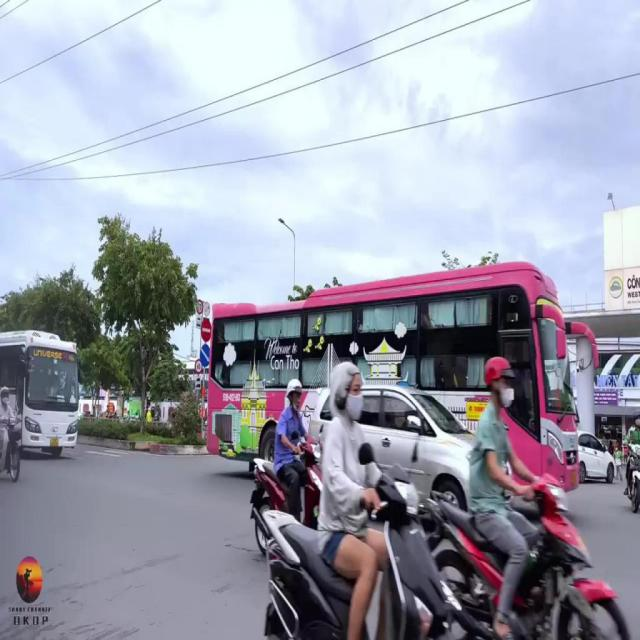cam_xe_di_nguoc_chieu: (201, 320, 212, 344)
huong_phai_di_vuot_chuong_ngai_vat_phai: (198, 344, 210, 368)
khac: (196, 301, 203, 315), (195, 376, 201, 384), (195, 382, 201, 389), (196, 322, 202, 328), (196, 316, 202, 322)
toc_do_toi_da_60: (194, 360, 202, 374)
